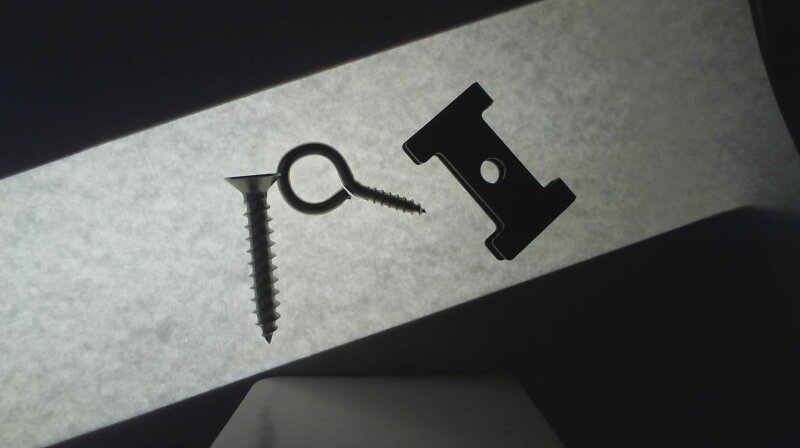O001: (276, 140, 425, 217)
O002: (397, 78, 578, 261)
S001: (223, 168, 286, 345)
